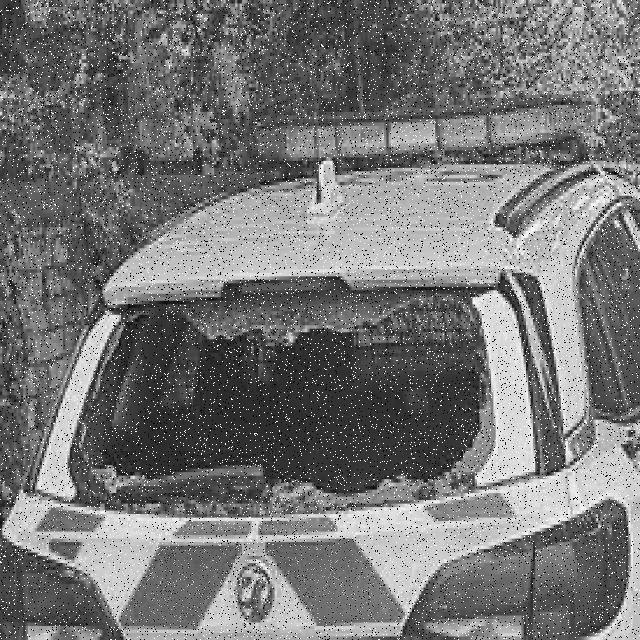Rear-windscreen-Damage: (78, 276, 501, 510)
